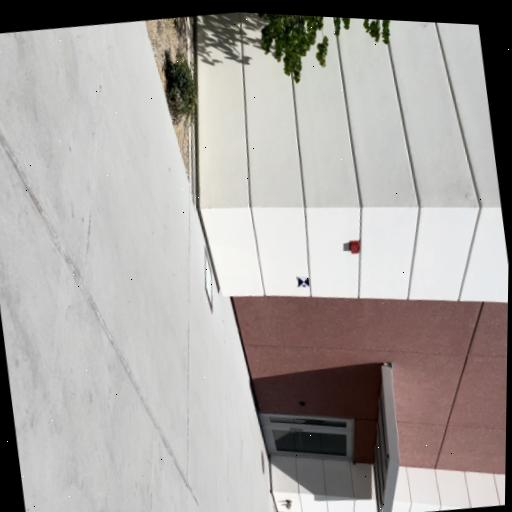target9: (297, 275, 311, 290)
